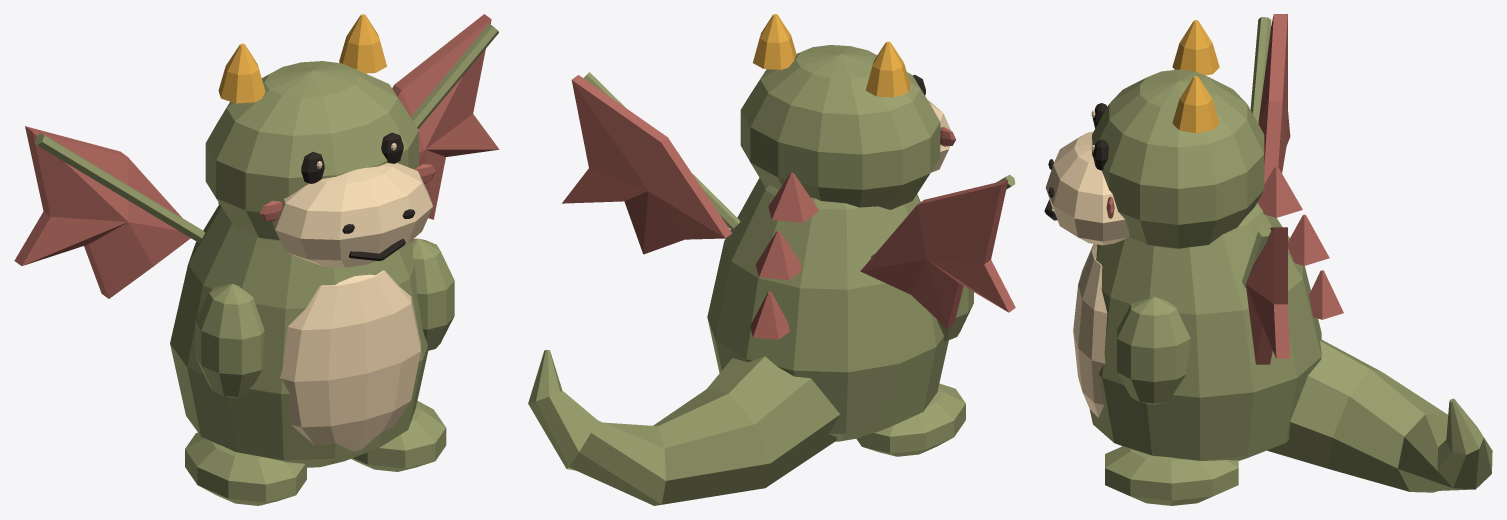
Rendered from dragon.glb.
3 views of the same model, side by side, from view 1: azimuth 30°, elevation 25°; view 2: azimuth 150°, elevation 25°; view 3: azimuth 270°, elevation 25° (orthographic). The views are drawn at different scales.
Visible parts, largest first — view 1: body, head, belly, wing_-1, muzzle, wing_1, arm_-1, foot_-1, arm_1, foot_1, wing_ridge_-1, horn_-1 (+3 smaller); view 2: body, tail, head, wing_1, wing_-1, foot_-1, horn_-1, horn_1, back_spike_1, back_spike_2, back_spike_3, wing_ridge_1 (+1 smaller); view 3: body, head, tail, arm_1, foot_1, muzzle, wing_1, belly, wing_-1, horn_1, horn_-1, back_spike_1 (+4 smaller).
Boxes of the visible parts, x1,y1,x2,y2 form: body: (170, 204, 428, 467); head: (205, 61, 418, 240); belly: (280, 270, 420, 451); wing_-1: (14, 126, 190, 298); muzzle: (272, 163, 432, 267); wing_1: (392, 14, 499, 219); arm_-1: (195, 284, 264, 397); foot_-1: (185, 432, 306, 505); arm_1: (410, 238, 454, 350); foot_1: (351, 401, 446, 471); wing_ridge_-1: (34, 133, 205, 242); horn_-1: (218, 43, 265, 103); body: (707, 178, 948, 441); tail: (528, 350, 840, 505); head: (740, 45, 940, 209); wing_1: (562, 75, 732, 254); wing_-1: (860, 180, 1015, 328); foot_-1: (856, 383, 965, 456); horn_-1: (865, 41, 910, 97); horn_1: (753, 14, 796, 69); back_spike_1: (768, 173, 818, 222); back_spike_2: (755, 230, 801, 279); back_spike_3: (750, 291, 789, 339); wing_ridge_1: (583, 72, 740, 230); body: (1089, 202, 1321, 461); head: (1092, 69, 1264, 249); tail: (1267, 340, 1492, 492); arm_1: (1117, 296, 1190, 404); foot_1: (1105, 446, 1238, 505); muzzle: (1045, 131, 1129, 245); wing_1: (1245, 227, 1290, 364); belly: (1073, 244, 1107, 417); wing_-1: (1258, 14, 1290, 183); horn_1: (1172, 76, 1219, 133); horn_-1: (1172, 20, 1219, 75); back_spike_1: (1257, 166, 1302, 217).
Size of the model in its own units: 2.06 by 1.8 by 1.76.
